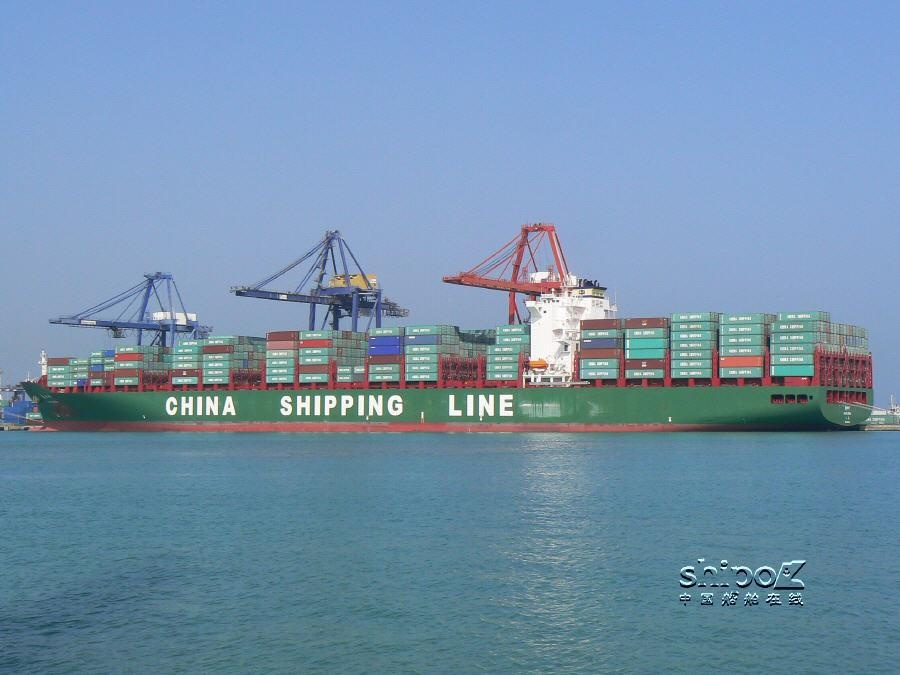Cargoship: (16, 202, 876, 439)
